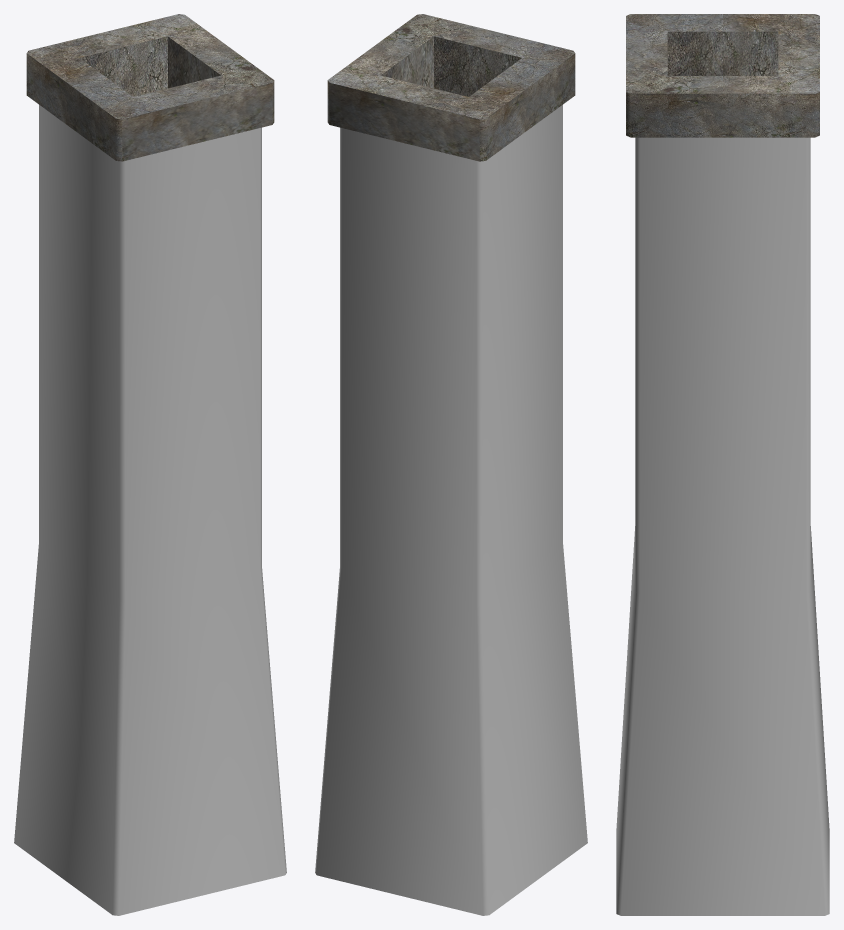
File: Chimney_1.fbx
3 renders of one model, left to right at view 1: azimuth 30°, elevation 25°; view 2: azimuth 150°, elevation 25°; view 3: azimuth 270°, elevation 25°, orthographic. The views are drawn at different scales.
Visible parts, largest first — view 1: Chimney_1; view 2: Chimney_1; view 3: Chimney_1.
Boxes of the visible parts, x1,y1,x2,y2 form: Chimney_1: [14, 14, 286, 915]; Chimney_1: [315, 14, 587, 915]; Chimney_1: [616, 14, 829, 915].
Bounding box in the file's own units: 193 × 837 × 198.
